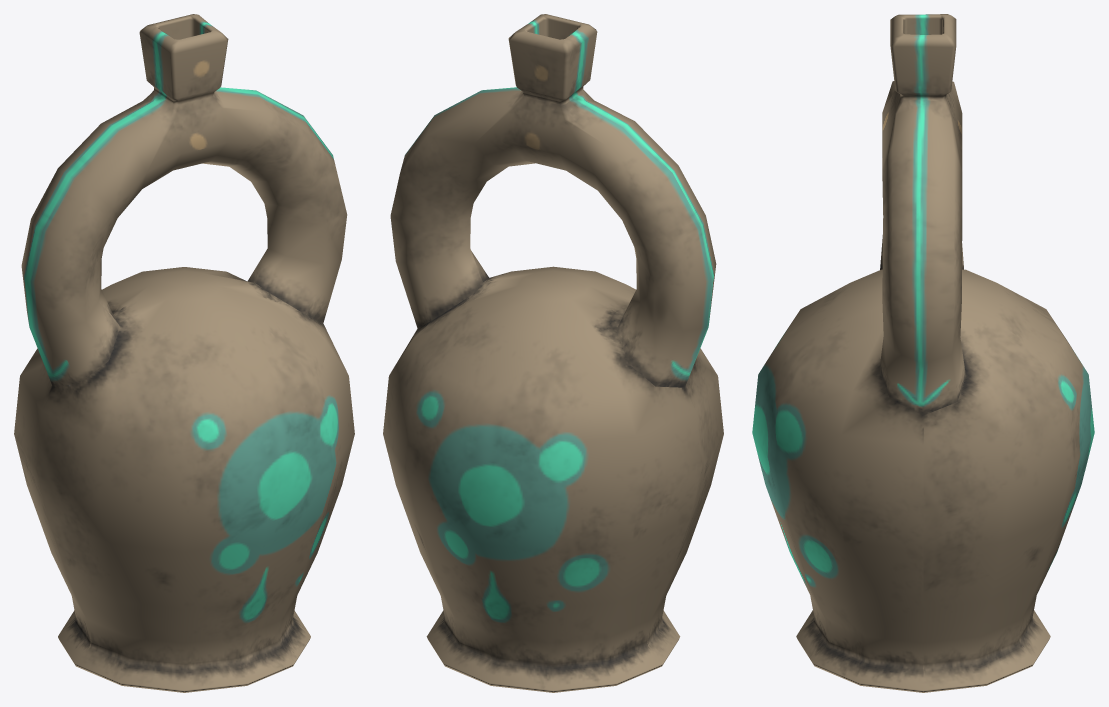
The model's file is Vase_2.fbx.
3 renders of one model, left to right at view 1: azimuth 30°, elevation 25°; view 2: azimuth 150°, elevation 25°; view 3: azimuth 270°, elevation 25°, orthographic.
Parts seen in each view (by area): view 1: Vase_2; view 2: Vase_2; view 3: Vase_2.
Boxes of the visible parts, <box> form: Vase_2: <box>14,14,354,692</box>; Vase_2: <box>383,14,723,692</box>; Vase_2: <box>752,14,1094,692</box>.
Size of the model in its own units: 51.87 by 94.99 by 47.93.
